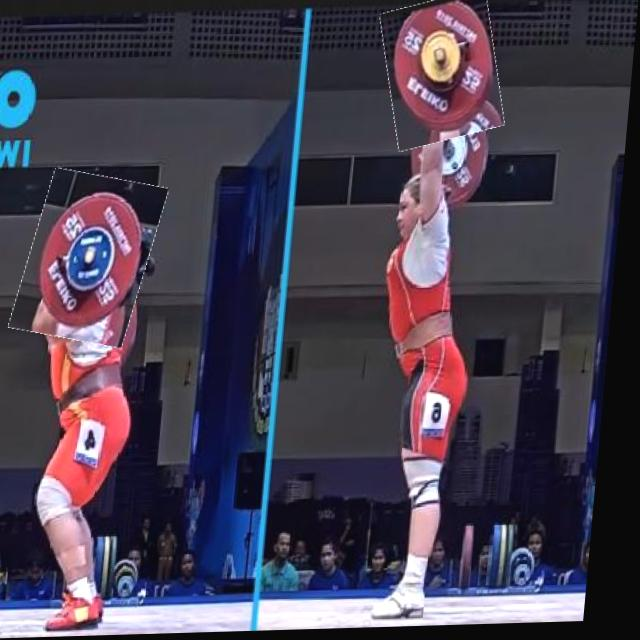barbell: (21, 172, 167, 347), (379, 1, 510, 151)
